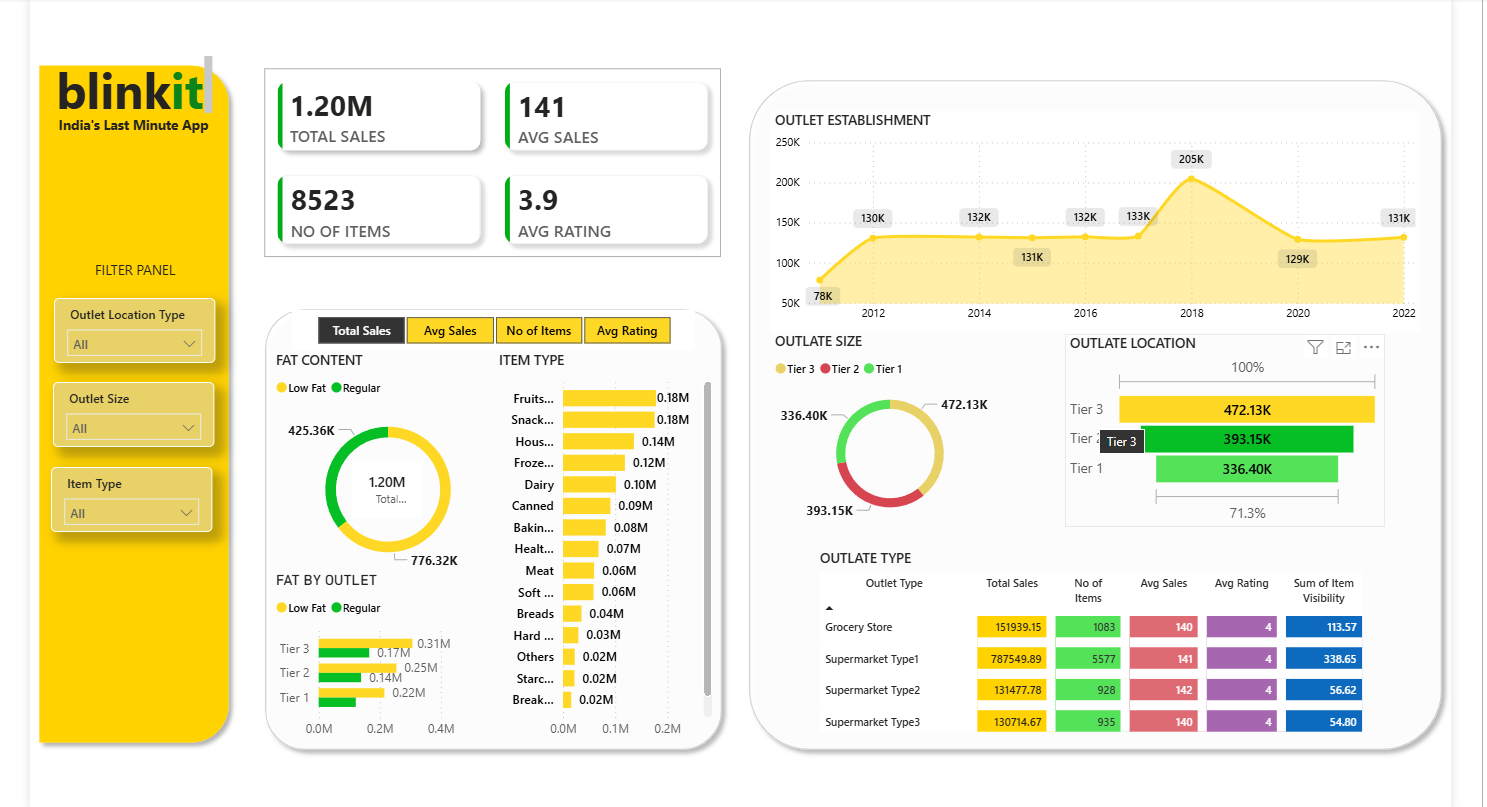

The dashboard page shown, as its layout file describes it:
{"tool":"powerbi","page":{"name":"Page 1","canvas":[1400,800],"ordinal":0},"visuals":[{"type":"shape","box":[0,57.1,204.9,685.7],"z":0},{"type":"textbox","box":[20.7,52.2,163.5,70],"z":1000},{"type":"textbox","box":[21.7,111.3,160.6,27.6],"z":2000},{"type":"cardVisual","fields":{"Data":["BlinkIT Grocery Data.Total Sales","BlinkIT Grocery Data.Avg Sales","BlinkIT Grocery Data.No of Items","BlinkIT Grocery Data.Avg Rating"]},"box":[213.8,52.2,485.7,221.7],"z":3000},{"type":"shape","box":[222.7,297.5,468,452.2],"z":4000},{"type":"donutChart","title":"FAT CONTENT","fields":{"Y":["BlinkIT Grocery Data.Total Sales"],"Category":["BlinkIT Grocery Data.Item Fat Content"]},"box":[237.4,347.8,230.5,228.6],"z":5000},{"type":"slicer","fields":{"Values":["Metrics.Metrics"]},"box":[258.1,307.4,397,40.4],"z":6000},{"type":"cardVisual","fields":{"Data":["BlinkIT Grocery Data.Total Sales"]},"box":[317.2,456.2,70,56.2],"z":7000},{"type":"clusteredBarChart","title":"FAT BY OUTLET","fields":{"Y":["BlinkIT Grocery Data.Total Sales"],"Category":["BlinkIT Grocery Data.Outlet Location Type"],"Series":["BlinkIT Grocery Data.Item Fat Content"]},"box":[237.4,565.5,196.1,172.4],"z":8000},{"type":"barChart","title":"ITEM TYPE","fields":{"Y":["BlinkIT Grocery Data.Total Sales"],"Category":["BlinkIT Grocery Data.Item Type"]},"box":[457.1,347.8,219.7,390.1],"z":9000},{"type":"shape","box":[699.5,71.9,700.5,677.8],"z":10000},{"type":"lineChart","title":"OUTLET ESTABLISHMENT","fields":{"Category":["BlinkIT Grocery Data.Outlet Establishment Year"],"Y":["BlinkIT Grocery Data.Total Sales"]},"box":[729.1,111.3,641.4,217.7],"z":11000},{"type":"donutChart","title":"OUTLATE SIZE","fields":{"Y":["BlinkIT Grocery Data.Total Sales"],"Category":["BlinkIT Grocery Data.Outlet Location Type"]},"box":[729.1,329.1,236.5,195.1],"z":12000},{"type":"funnel","title":"OUTLATE LOCATION","fields":{"Y":["Sum(BlinkIT Grocery Data.Sales)"],"Category":["BlinkIT Grocery Data.Outlet Location Type"]},"box":[1019.7,331,315.3,190.1],"z":13000},{"type":"pivotTable","title":"OUTLATE TYPE","fields":{"Rows":["BlinkIT Grocery Data.Outlet Type"],"Values":["BlinkIT Grocery Data.Total Sales","BlinkIT Grocery Data.No of Items","BlinkIT Grocery Data.Avg Sales","BlinkIT Grocery Data.Avg Rating","Sum(BlinkIT Grocery Data.Item Visibility)"]},"box":[773.4,542.9,553.7,195.1],"z":14000},{"type":"slicer","fields":{"Values":["BlinkIT Grocery Data.Outlet Location Type"]},"box":[23.6,295.6,158.6,64],"z":14001},{"type":"slicer","fields":{"Values":["BlinkIT Grocery Data.Outlet Size"]},"box":[22.7,378.3,158.6,64],"z":14002},{"type":"slicer","fields":{"Values":["BlinkIT Grocery Data.Item Type"]},"box":[20.7,462.1,158.6,64],"z":14003},{"type":"textbox","box":[58.1,254.2,90.6,39.4],"z":14004}]}

Visuals, with their boxes on the page's 1400x800 design canvas (x1, y1, x2, y2). These are canvas units, not pixel positions in the 1487x807 screenshot, which may show the page scaled, cropped or inside an application window:
shape: 0 57 205 743
textbox: 21 52 184 122
textbox: 22 111 182 139
cardVisual - BlinkIT Grocery Data.Total Sales x BlinkIT Grocery Data.Avg Sales: 214 52 700 274
shape: 223 298 691 750
"FAT CONTENT" donutChart: 237 348 468 576
slicer - Metrics.Metrics: 258 307 655 348
cardVisual - BlinkIT Grocery Data.Total Sales: 317 456 387 512
"FAT BY OUTLET" clusteredBarChart: 237 566 434 738
"ITEM TYPE" barChart: 457 348 677 738
shape: 700 72 1400 750
"OUTLET ESTABLISHMENT" lineChart: 729 111 1370 329
"OUTLATE SIZE" donutChart: 729 329 966 524
"OUTLATE LOCATION" funnel: 1020 331 1335 521
"OUTLATE TYPE" pivotTable: 773 543 1327 738
slicer - BlinkIT Grocery Data.Outlet Location Type: 24 296 182 360
slicer - BlinkIT Grocery Data.Outlet Size: 23 378 181 442
slicer - BlinkIT Grocery Data.Item Type: 21 462 179 526
textbox: 58 254 149 294
